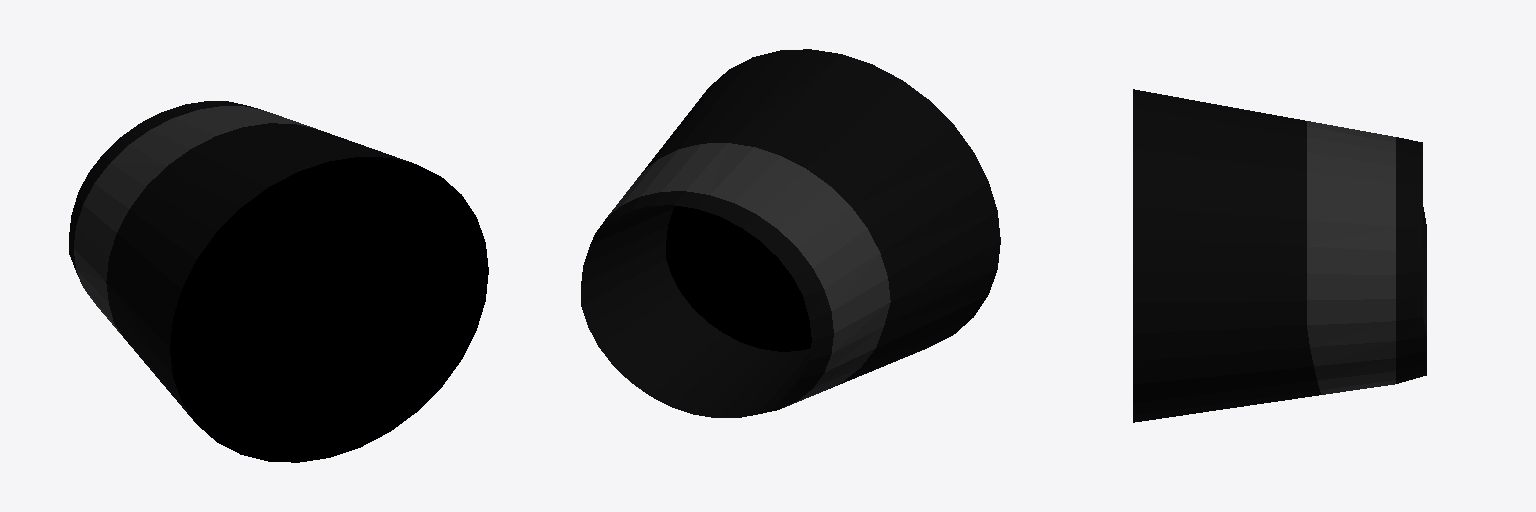
File: left_thruster.obj
3 views of the same model, side by side, from view 1: azimuth 30°, elevation 25°; view 2: azimuth 150°, elevation 25°; view 3: azimuth 270°, elevation 25° (orthographic).
Visible parts, largest first — view 1: Left_Thruster_Body, Left_Thruster_Body_Exhaust, Left_Thruster_Body_Ex2; view 2: Left_Thruster_Body_Exhaust, Left_Thruster_Body_Ex2, Left_Thruster_Body; view 3: Left_Thruster_Body_Exhaust, Left_Thruster_Body_Ex2.
Part boxes in pixels (left/top/right/bottom): Left_Thruster_Body: left=170, top=157, right=488, bottom=462; Left_Thruster_Body_Exhaust: left=69, top=101, right=413, bottom=421; Left_Thruster_Body_Ex2: left=74, top=106, right=315, bottom=337; Left_Thruster_Body_Exhaust: left=581, top=49, right=1000, bottom=417; Left_Thruster_Body_Ex2: left=608, top=143, right=890, bottom=407; Left_Thruster_Body: left=666, top=206, right=811, bottom=351; Left_Thruster_Body_Exhaust: left=1133, top=89, right=1426, bottom=422; Left_Thruster_Body_Ex2: left=1307, top=121, right=1395, bottom=394.
Bounding box in the file's own units: 1.18 × 1.05 × 0.9373.